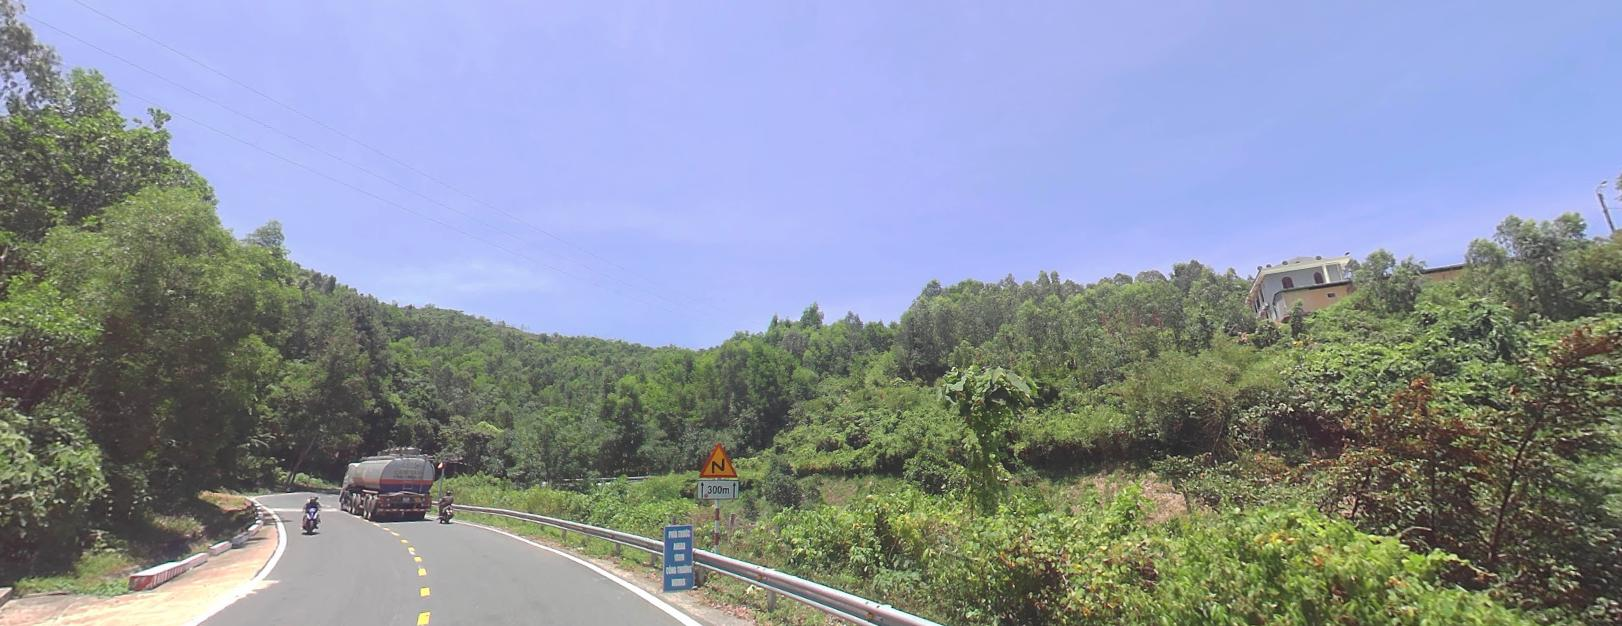Nguy hiem: (694, 439, 744, 479)
